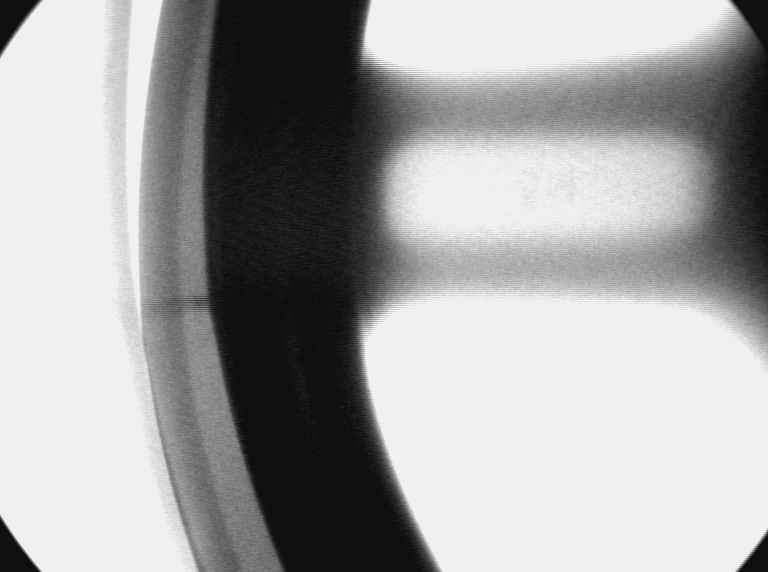defect: (195, 56, 220, 110)
